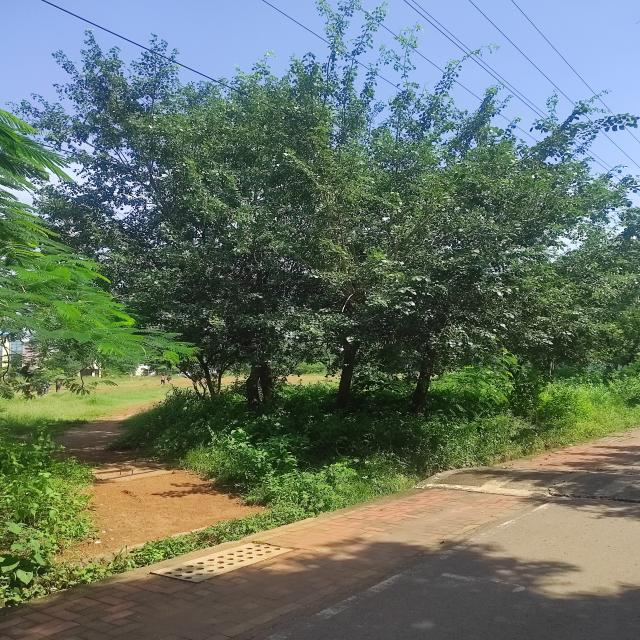Devakanchan tree: (51, 57, 586, 346)
